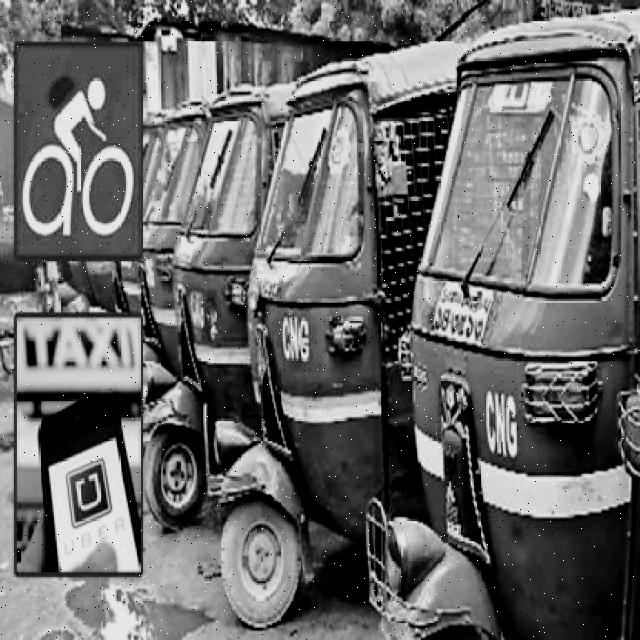Auto-Rickshaw: (386, 20, 632, 638), (249, 53, 396, 614), (156, 74, 252, 522)
